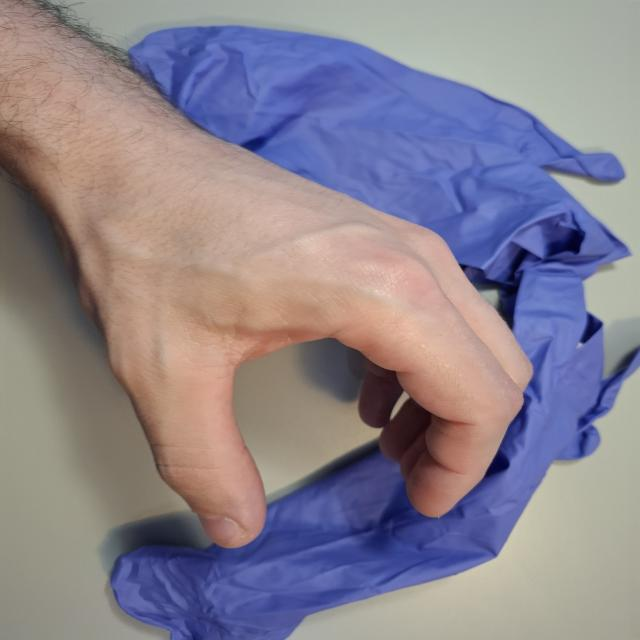glove_off: (37, 132, 540, 554)
